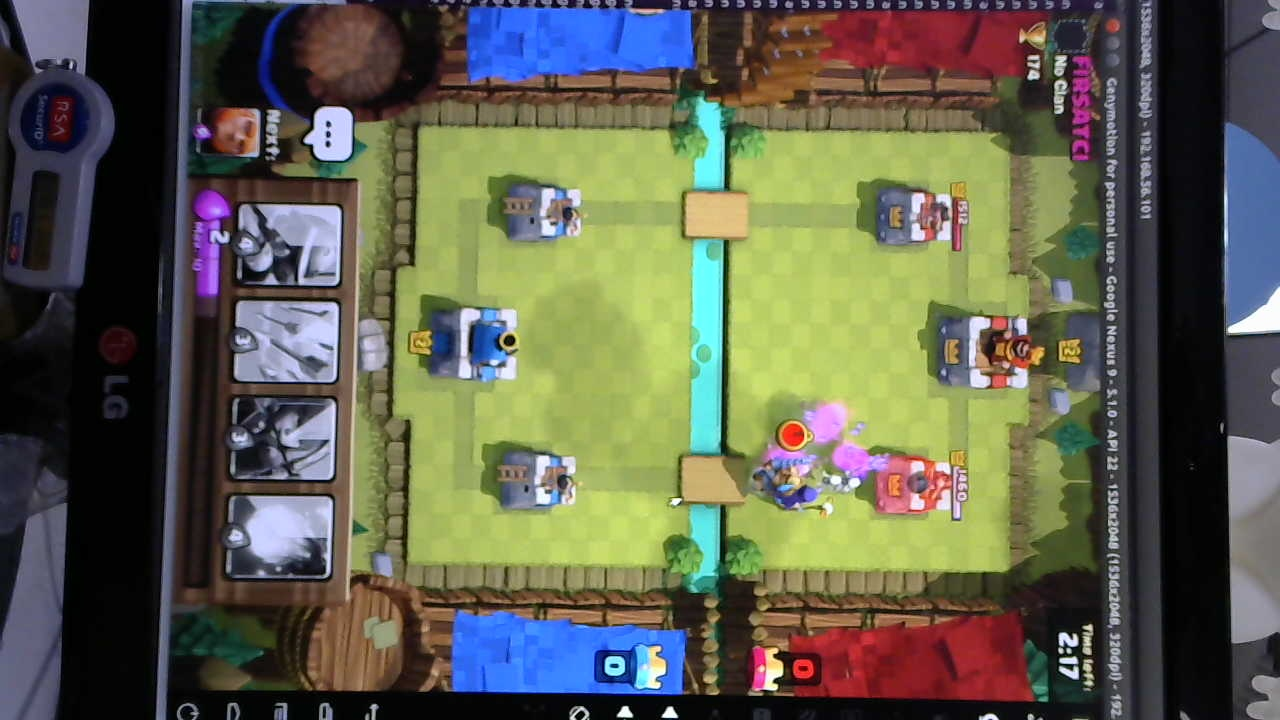arena: (495, 452, 585, 512), (509, 182, 587, 243)
earena: (877, 455, 957, 519), (869, 187, 954, 247)
eking: (933, 309, 1043, 394)
king: (438, 307, 523, 382)
prince: (755, 458, 815, 496)
skeleton: (821, 461, 867, 506)
witch: (769, 484, 834, 514)
